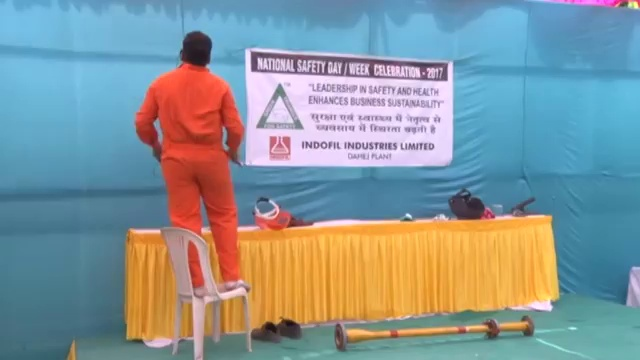helmet_off: (178, 29, 215, 67)
person: (135, 26, 257, 291)
